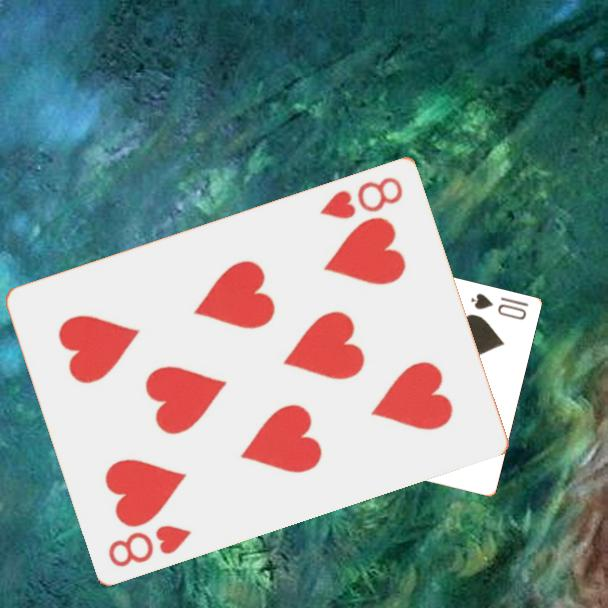h08: (105, 521, 195, 570), (317, 172, 406, 221)
s10: (467, 290, 531, 323)
